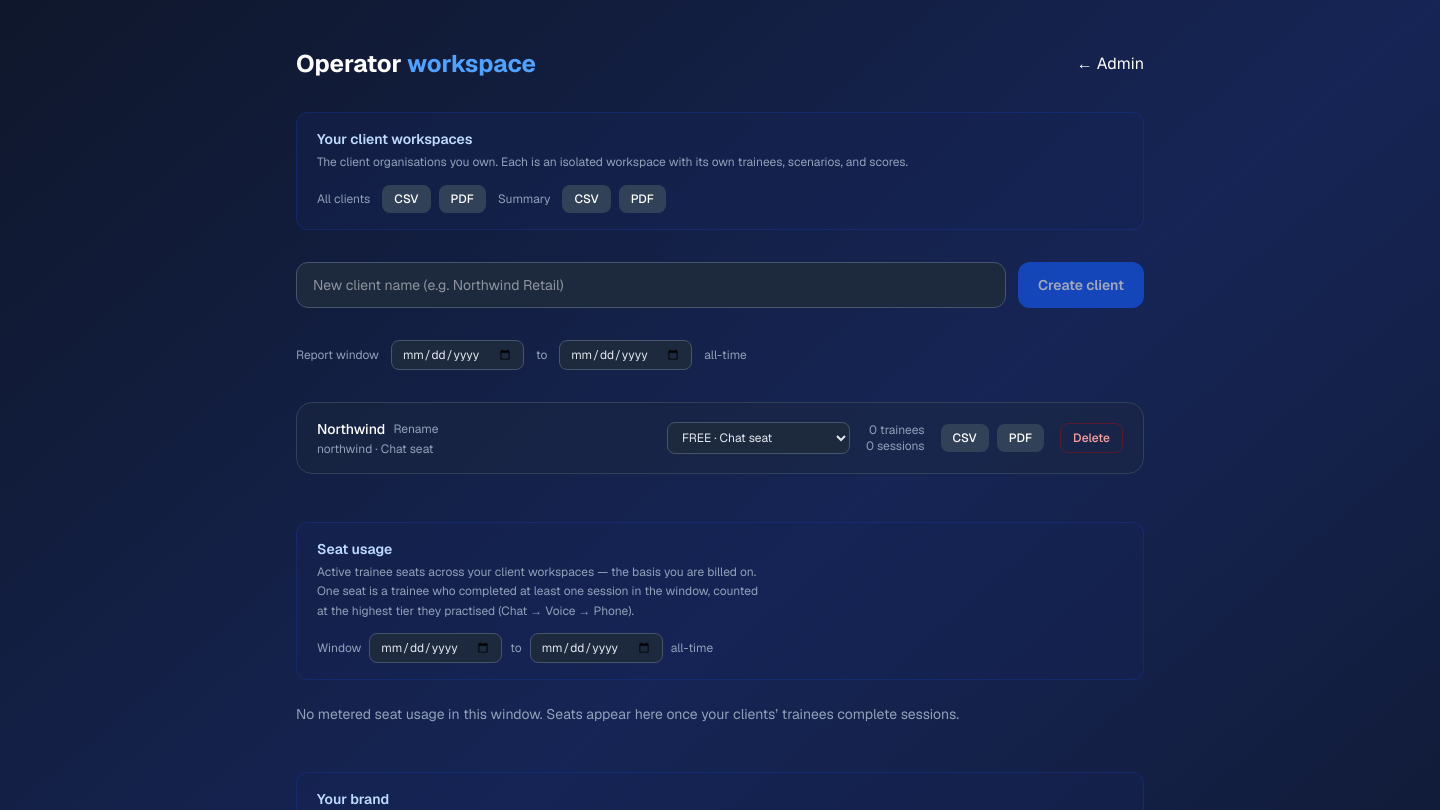
Test: Operator workspace — operator view › surfaces the API error on a forbidden seat-tier change and keeps the value
Expected: the text "Northwind" is shown, x1=317 y1=418 x2=385 y2=438
Select "PRO · Voice seat" in the dropdown named "Seat tier for Northwind" at (758, 438), box x1=667 y1=422 x2=850 y2=454
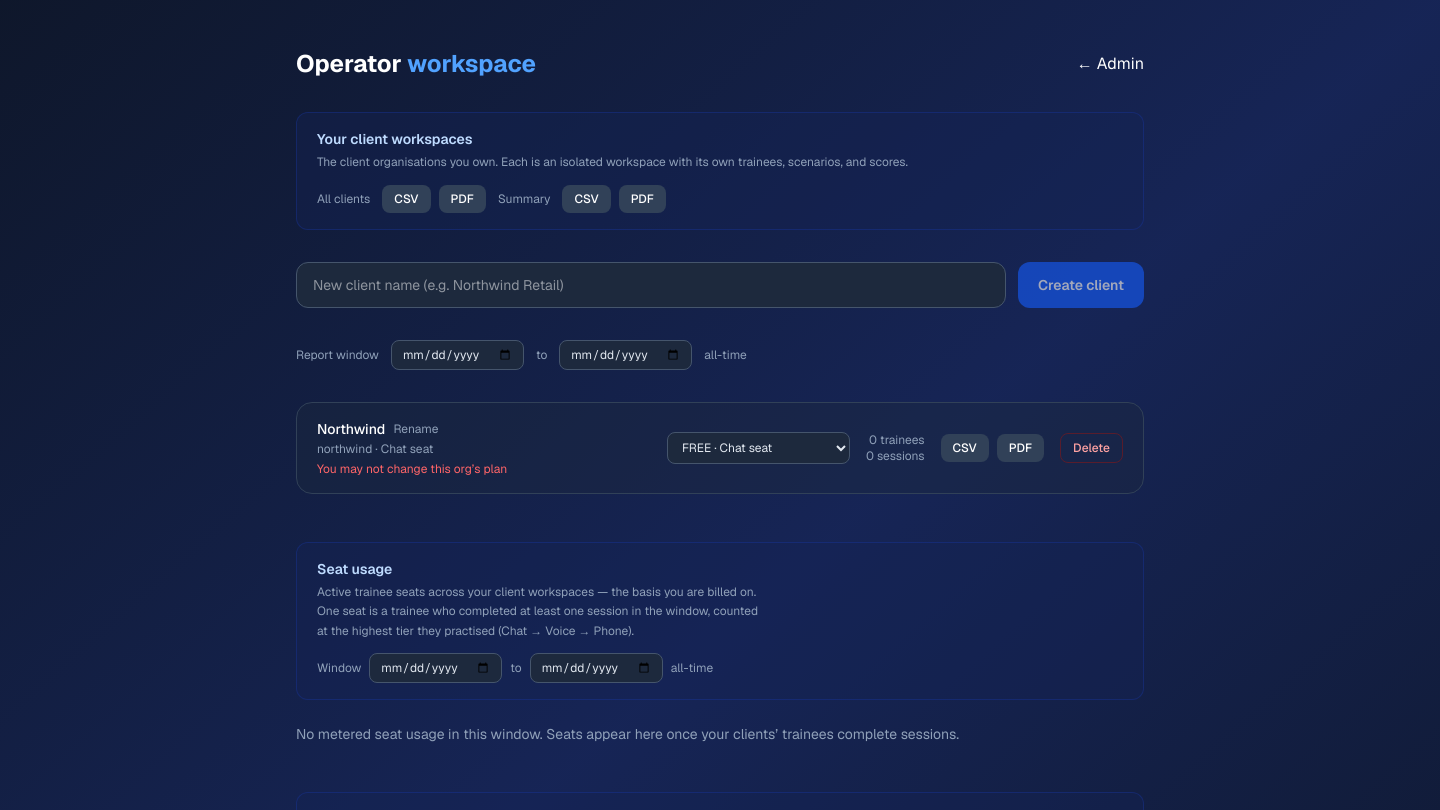
Expected: the text "You may not change this org’s plan" is shown, x1=317 y1=460 x2=507 y2=476
